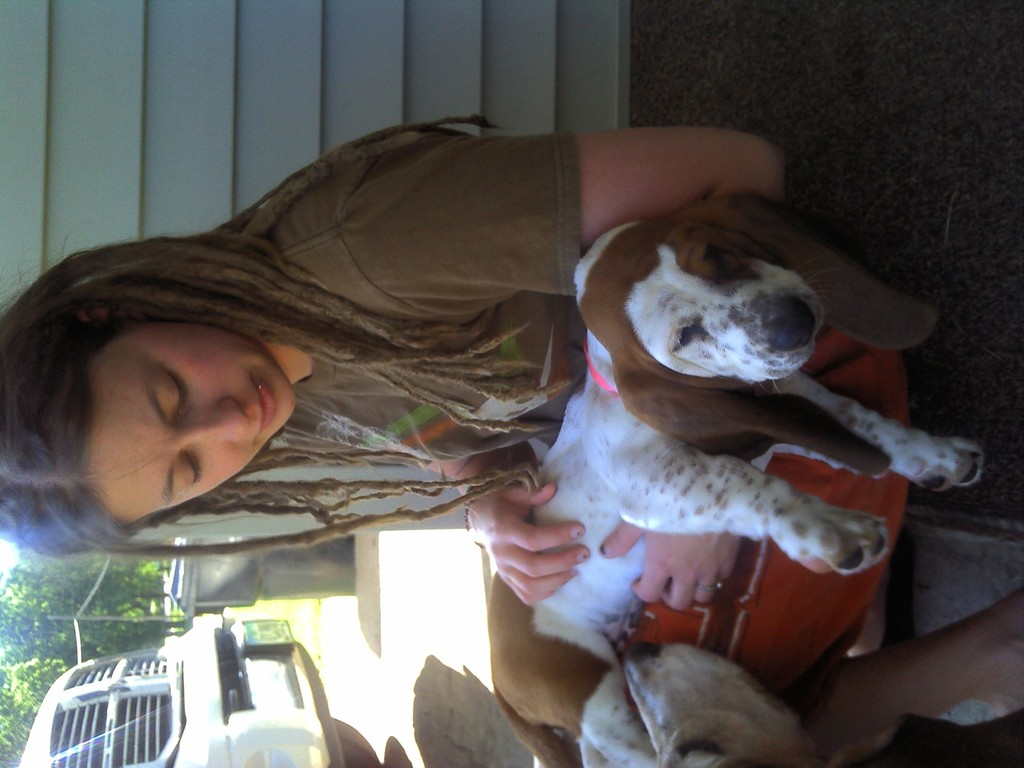Person: (0, 113, 1024, 768)
